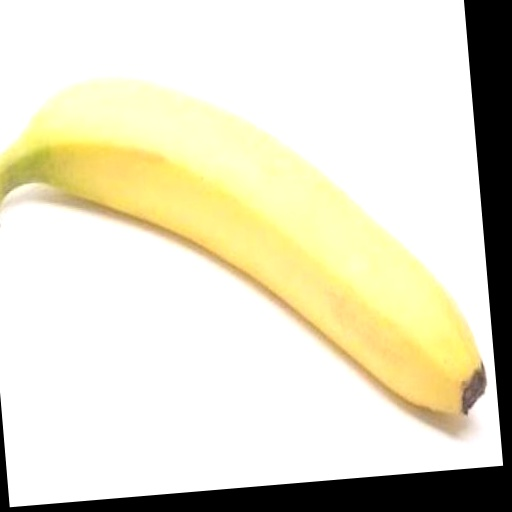fruit: (0, 77, 486, 413)
